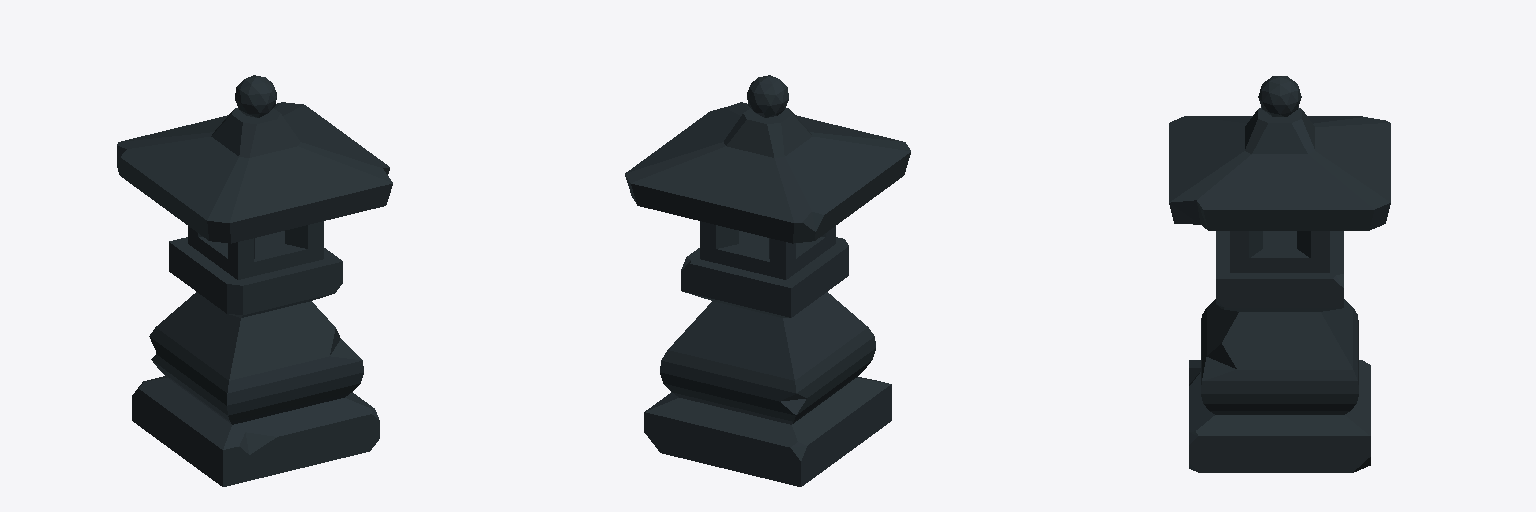
File: stone_lantern.obj
The picture shows the model from 3 angles: view 1: azimuth 30°, elevation 25°; view 2: azimuth 150°, elevation 25°; view 3: azimuth 270°, elevation 25°; orthographic projection.
Visible parts, largest first — view 1: stone_lantern_Cube.241; view 2: stone_lantern_Cube.241; view 3: stone_lantern_Cube.241.
Boxes of the visible parts, box(x1,y1,x2,y2) form: stone_lantern_Cube.241: box(117, 75, 392, 486); stone_lantern_Cube.241: box(625, 75, 910, 486); stone_lantern_Cube.241: box(1169, 76, 1390, 472).
Size of the model in its own units: 0.995 by 1.77 by 0.995.